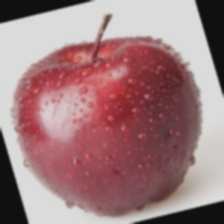apple: (22, 45, 214, 220)
